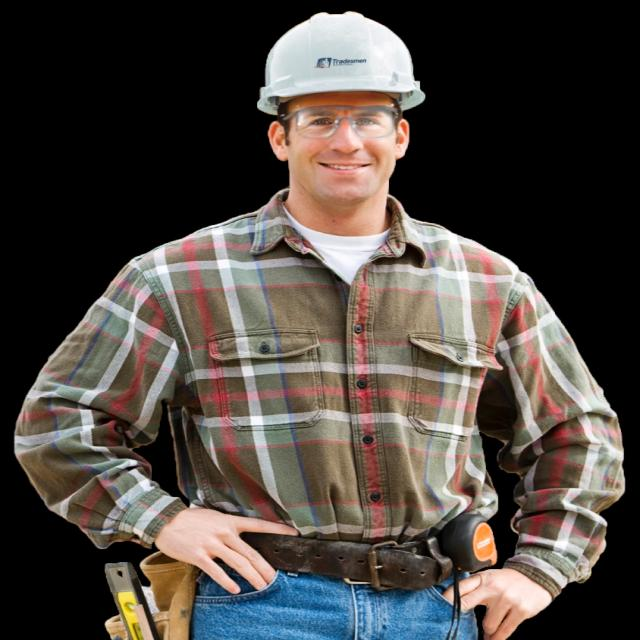Hard Hat: (254, 5, 436, 116)
Safety Glasses: (279, 106, 407, 140)
